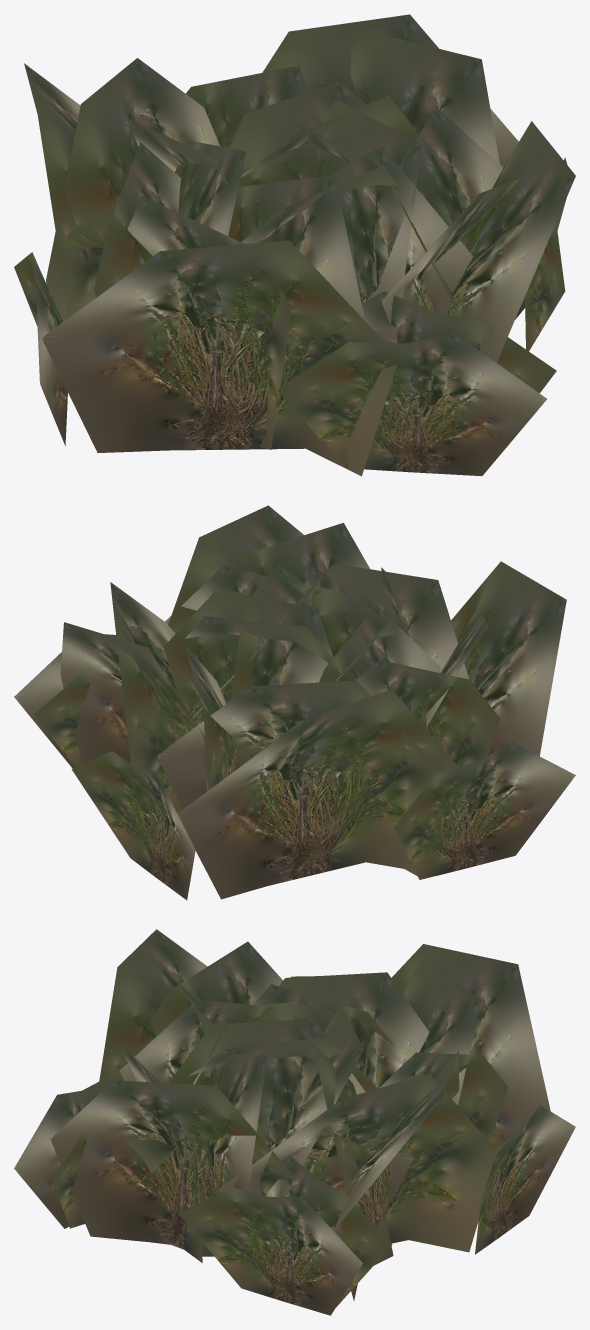
The model's file is SM_Grass_02a.fbx.
3 views of the same model, one above another, from view 1: azimuth 30°, elevation 25°; view 2: azimuth 150°, elevation 25°; view 3: azimuth 270°, elevation 25° (orthographic). The views are drawn at different scales.
Parts seen in each view (by area): view 1: SM_Grass_02a_LOD0; view 2: SM_Grass_02a_LOD0; view 3: SM_Grass_02a_LOD0.
Part boxes in pixels (x1,y1,x2,y2): SM_Grass_02a_LOD0: (14, 14, 575, 476); SM_Grass_02a_LOD0: (14, 505, 575, 900); SM_Grass_02a_LOD0: (14, 929, 575, 1315).
Bounding box in the file's own units: 216 × 217 × 87.66.
